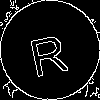R: (25, 25, 70, 78)
